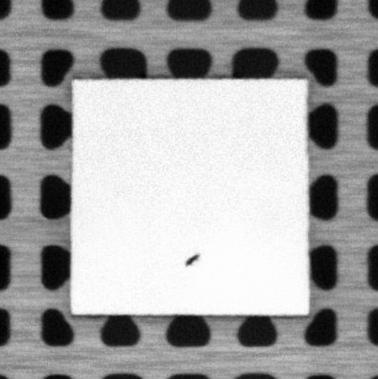DIE_INK: (185, 253, 201, 266)
